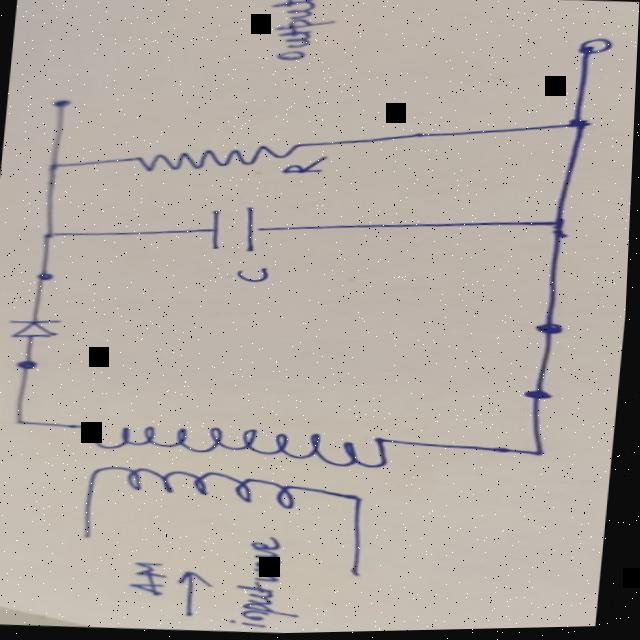capacitor: (200, 205, 267, 256)
diode: (4, 318, 66, 342)
junction: (529, 325, 573, 340), (517, 391, 564, 405), (554, 120, 589, 135), (520, 451, 558, 464), (11, 359, 44, 373), (38, 160, 73, 173), (28, 271, 65, 283), (541, 221, 578, 233), (38, 230, 68, 242), (8, 418, 37, 428)
resistor: (127, 137, 306, 180)
terminal: (567, 38, 613, 63), (44, 98, 78, 113), (344, 574, 374, 582), (76, 534, 106, 542)
text: (117, 530, 315, 637), (254, 0, 338, 67), (280, 155, 332, 179), (232, 268, 276, 287)
transformer: (67, 418, 396, 522)
